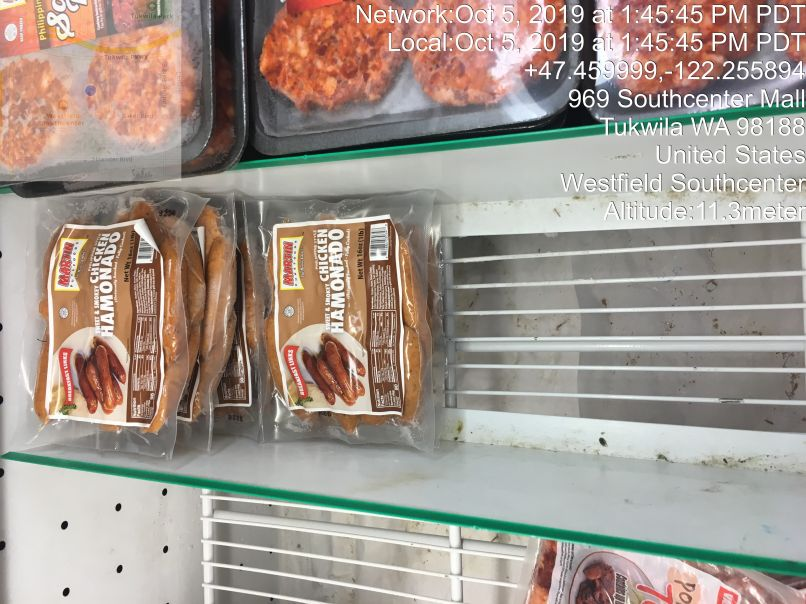Chicken Hamonado: (29, 190, 267, 467), (250, 178, 449, 454)
Location: (558, 81, 806, 196)
Time: (349, 2, 806, 58)
